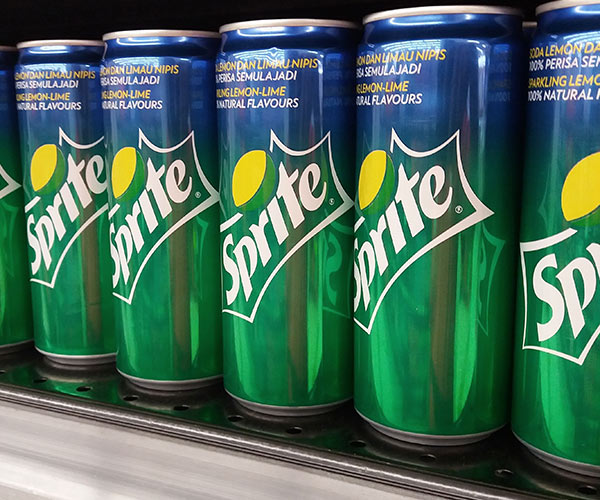Sprite: (354, 19, 506, 456), (221, 25, 347, 412), (492, 10, 594, 463), (105, 65, 213, 381), (8, 52, 115, 367)
